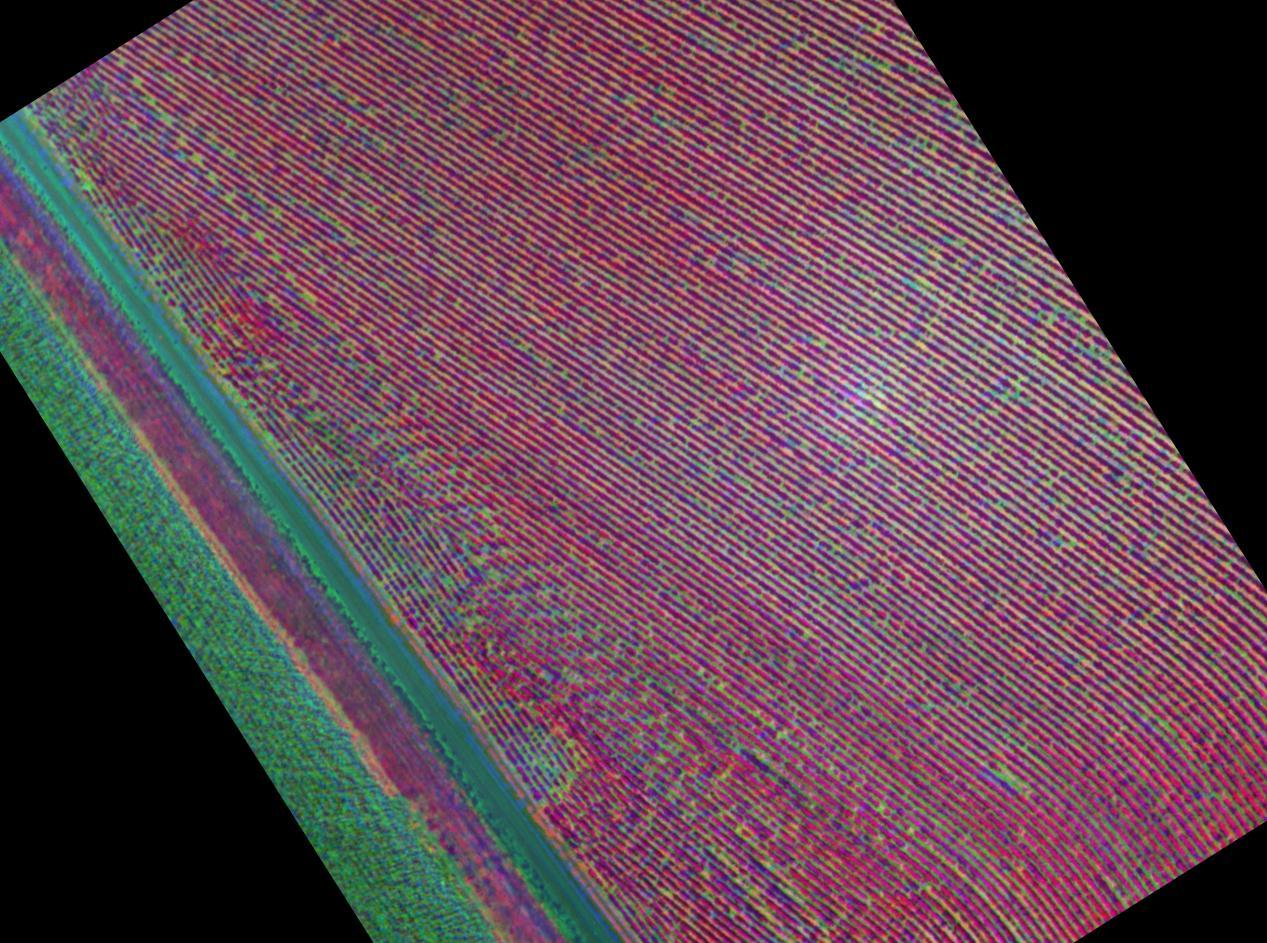dc: (636, 419, 640, 423), (402, 456, 406, 460), (490, 572, 494, 576), (875, 63, 879, 67), (820, 342, 824, 345), (451, 470, 455, 473), (484, 512, 487, 515)
